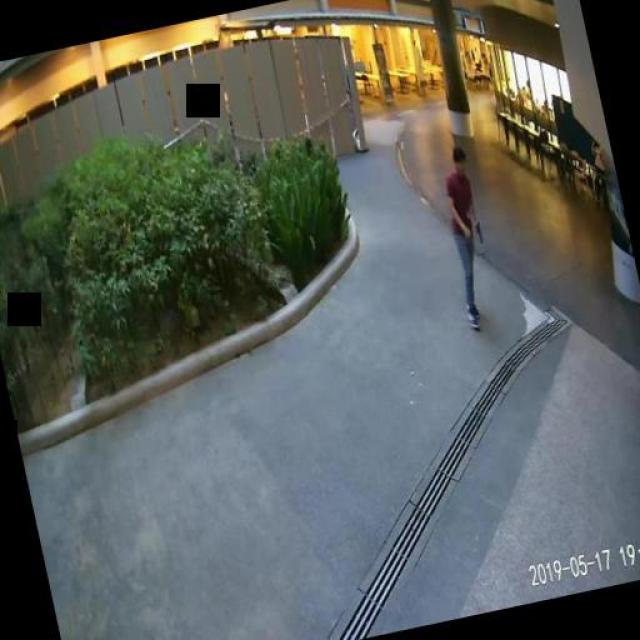gun: (472, 218, 482, 242)
